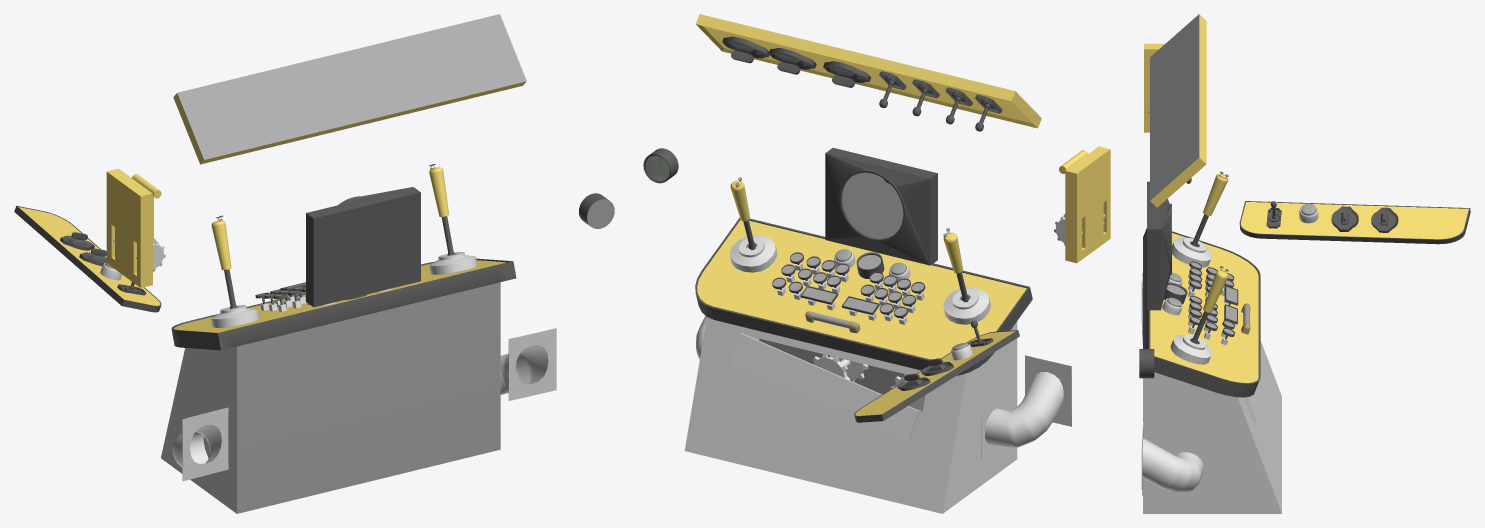
The model's file is comtrolpaneluvs.fbx.
3 renders of one model, left to right at view 1: azimuth 30°, elevation 25°; view 2: azimuth 150°, elevation 25°; view 3: azimuth 270°, elevation 25°, orthographic. The views are drawn at different scales.
Parts seen in each view (by area): view 1: controllpanel, loftpanel, radar, pCube16, pipe3, sidepanel, pipe2, lever (×2), pCube21 (×2), pCylinder6; view 2: controllpanel, radar, loftpanel, broken_lid, pipe2, pCube16, sidepanel, pCube21 (×2), pCylinder6 (×2), lever (×2); view 3: controllpanel, loftpanel, sidepanel, pipe3, radar, pCube21 (×2), lever (×2), pCylinder21 (×2), pCube16, broken_lid, pCylinder6.
Boxes of the visible parts, x1=… form: controllpanel: x1=161, y1=258, x2=516, y2=513; loftpanel: x1=173, y1=14, x2=526, y2=164; radar: x1=306, y1=187, x2=420, y2=307; pCube16: x1=106, y1=168, x2=152, y2=287; pipe3: x1=500, y1=328, x2=556, y2=400; sidepanel: x1=14, y1=205, x2=161, y2=312; pipe2: x1=172, y1=407, x2=228, y2=481; lever (×2): x1=211, y1=167, x2=454, y2=308; pCube21 (×2): x1=211, y1=252, x2=477, y2=327; pCylinder6: x1=579, y1=193, x2=614, y2=228; controllpanel: x1=684, y1=217, x2=1032, y2=513; radar: x1=825, y1=147, x2=937, y2=265; loftpanel: x1=696, y1=14, x2=1041, y2=128; broken_lid: x1=730, y1=333, x2=919, y2=443; pipe2: x1=981, y1=355, x2=1071, y2=458; pCube16: x1=1065, y1=146, x2=1110, y2=263; sidepanel: x1=854, y1=330, x2=1019, y2=422; pCube21 (×2): x1=730, y1=235, x2=990, y2=324; pCylinder6 (×2): x1=643, y1=148, x2=884, y2=278; lever (×2): x1=730, y1=180, x2=969, y2=302; controllpanel: x1=1143, y1=228, x2=1281, y2=513; loftpanel: x1=1150, y1=14, x2=1206, y2=207; sidepanel: x1=1239, y1=201, x2=1470, y2=244; pipe3: x1=1141, y1=419, x2=1209, y2=495; radar: x1=1147, y1=181, x2=1171, y2=310; pCube21 (×2): x1=1170, y1=237, x2=1212, y2=364; lever (×2): x1=1190, y1=173, x2=1228, y2=343; pCylinder21 (×2): x1=1331, y1=206, x2=1398, y2=232; pCube16: x1=1144, y1=43, x2=1164, y2=132; broken_lid: x1=1244, y1=348, x2=1267, y2=422; pCylinder6: x1=1139, y1=349, x2=1154, y2=378.
Bounding box in the file's own units: 495 × 407 × 330.
9 materials, 1 textured.
